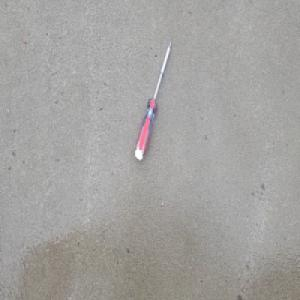Screwdriver: (134, 40, 173, 163)
